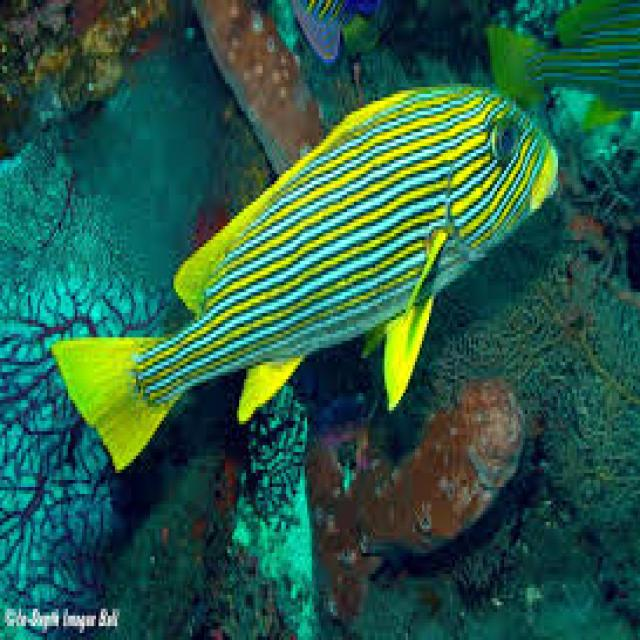RibbonedSweetlips: (49, 77, 560, 473)
